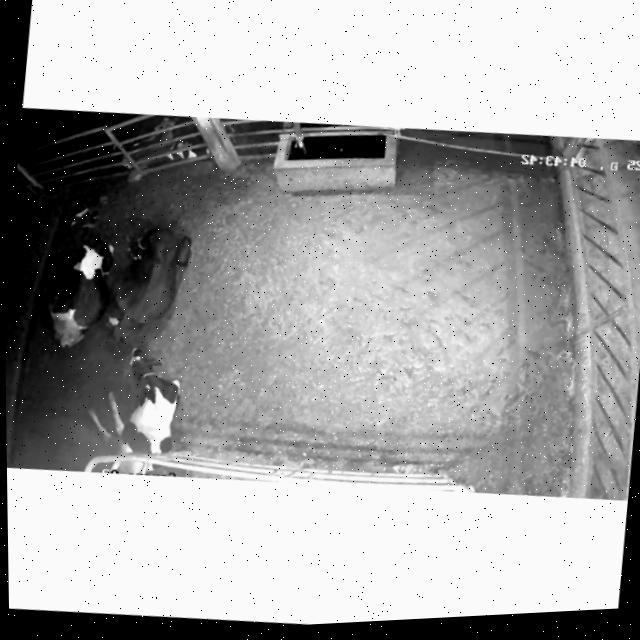lay: (93, 191, 215, 359), (18, 173, 121, 364), (71, 339, 195, 483)
